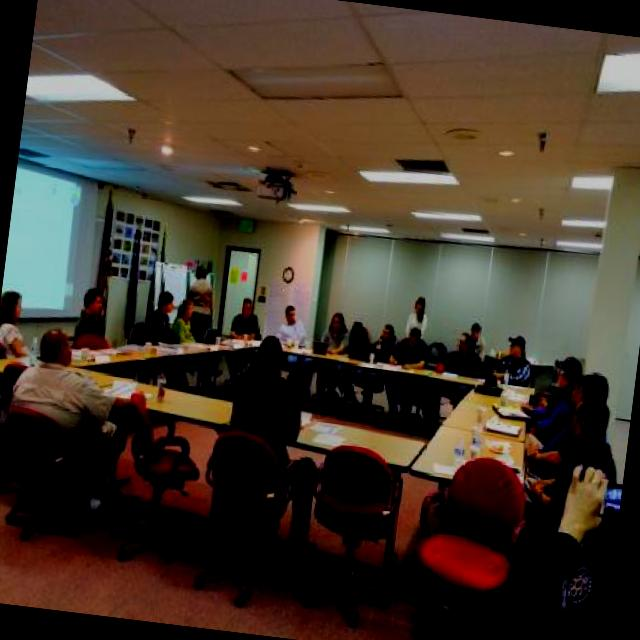Person: (0, 300, 134, 554), (216, 331, 310, 559), (512, 455, 623, 640), (532, 389, 624, 514), (540, 365, 614, 467), (532, 351, 584, 444), (0, 289, 39, 364), (226, 296, 260, 376), (438, 330, 490, 378), (490, 336, 536, 384), (384, 326, 432, 371), (76, 286, 110, 342), (149, 288, 180, 346), (278, 304, 312, 347), (172, 301, 202, 344), (322, 309, 351, 353), (367, 324, 398, 362), (406, 294, 426, 336), (467, 324, 488, 361)
